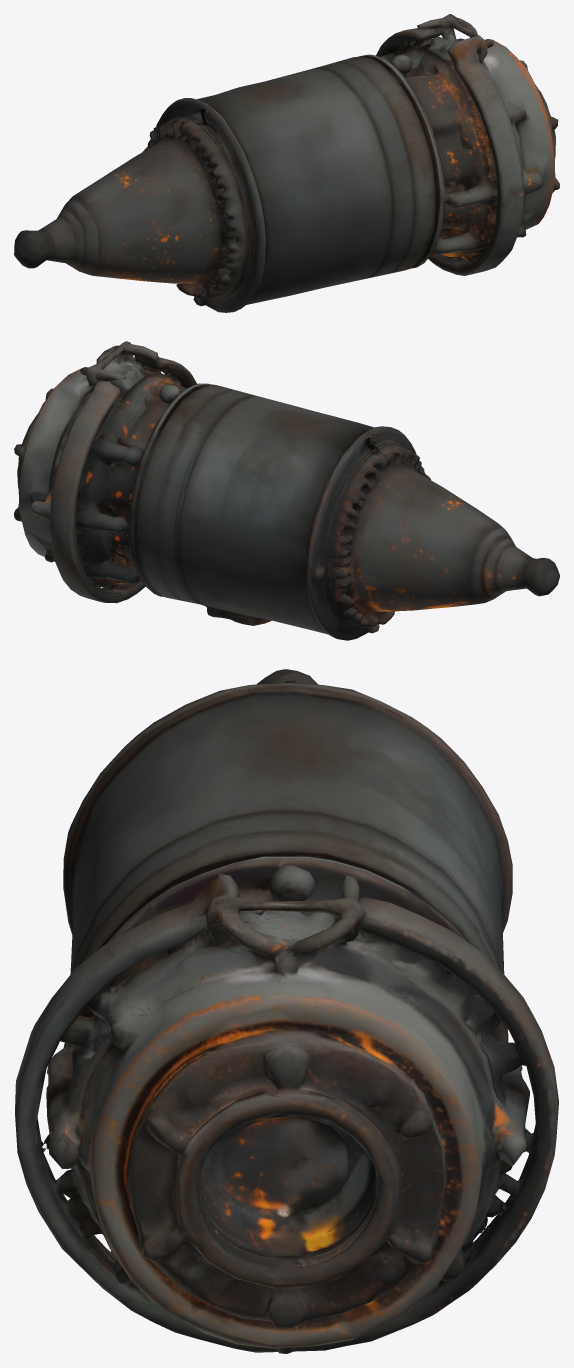
Rendered from item.obj.
The picture shows the model from 3 angles, top to bottom: view 1: azimuth 30°, elevation 25°; view 2: azimuth 150°, elevation 25°; view 3: azimuth 270°, elevation 25°; orthographic projection. The views are drawn at different scales.
Visible parts, largest first — view 1: Meshy_AI_a_scorched_rocket_thr_0607235323_texture; view 2: Meshy_AI_a_scorched_rocket_thr_0607235323_texture; view 3: Meshy_AI_a_scorched_rocket_thr_0607235323_texture.
Part boxes in pixels (bbox=[...]): Meshy_AI_a_scorched_rocket_thr_0607235323_texture: bbox=[14, 14, 559, 312]; Meshy_AI_a_scorched_rocket_thr_0607235323_texture: bbox=[14, 341, 559, 640]; Meshy_AI_a_scorched_rocket_thr_0607235323_texture: bbox=[15, 669, 558, 1353].
Bounding box in the file's own units: 1.91 × 0.8308 × 0.8788.
1 material, 1 textured.
